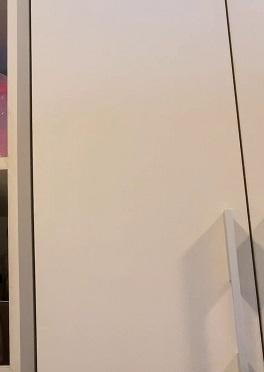cabinet_door: (29, 0, 242, 372)
handle: (222, 203, 248, 372)
